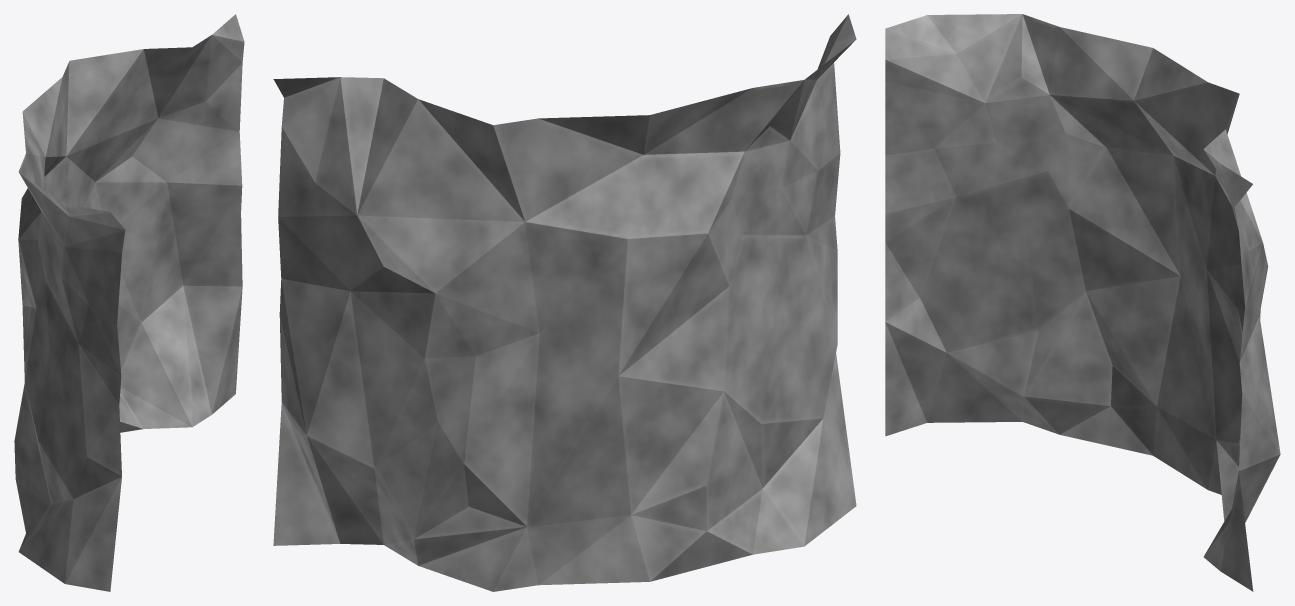
Rendered from CornerWall1.gltf.
The picture shows the model from 3 angles, left to right: view 1: azimuth 30°, elevation 25°; view 2: azimuth 150°, elevation 25°; view 3: azimuth 270°, elevation 25°; orthographic projection. The views are drawn at different scales.
Parts seen in each view (by area): view 1: CornerWall1; view 2: CornerWall1; view 3: CornerWall1.
Boxes of the visible parts, box(x1,y1,x2,y2) form: CornerWall1: box(14, 14, 244, 591); CornerWall1: box(273, 14, 856, 591); CornerWall1: box(885, 14, 1280, 591).
Size of the model in its own units: 4.47 by 5 by 4.39.
Materials: 1 (1 with a texture image).
